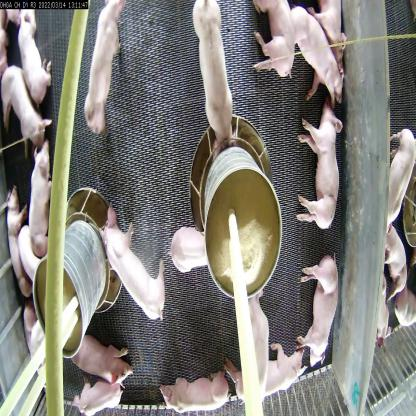Pig: (221, 339, 327, 415), (238, 265, 286, 416), (288, 256, 344, 370), (82, 0, 126, 140), (282, 0, 342, 96), (93, 209, 160, 291), (158, 353, 239, 416), (300, 98, 336, 238), (66, 324, 136, 388), (250, 0, 300, 89), (20, 148, 59, 261), (1, 183, 34, 308), (14, 10, 49, 116), (170, 202, 211, 288), (0, 70, 43, 149), (74, 375, 143, 415), (319, 4, 349, 54)
